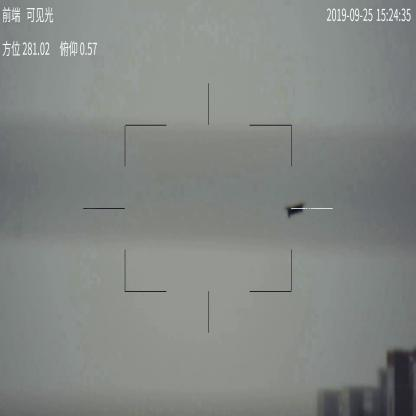uav: (290, 201, 307, 217)
